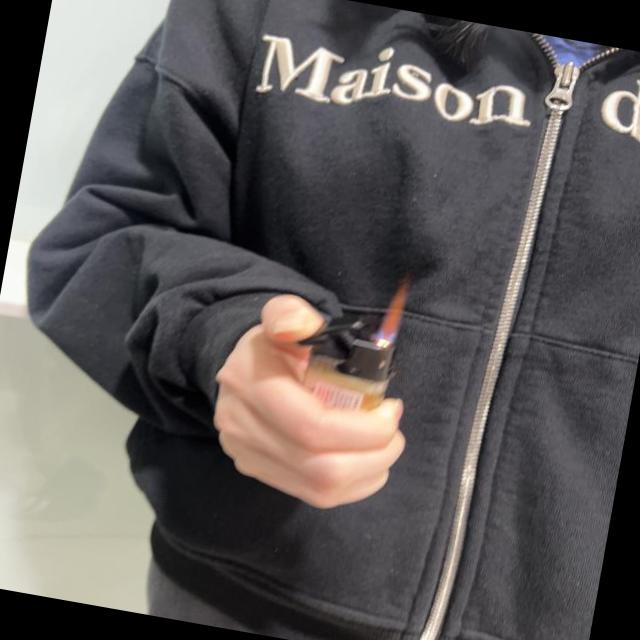Fire: (376, 272, 409, 347)
